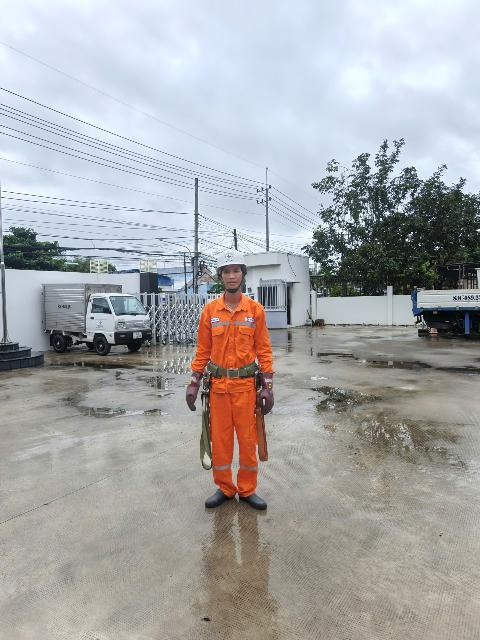gloves: (246, 365, 283, 413), (179, 366, 210, 412)
helmet: (211, 245, 253, 276)
shoes: (231, 487, 273, 519), (194, 483, 239, 512)
